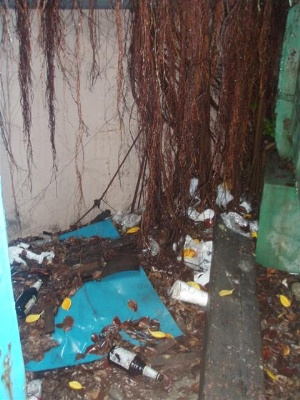bottle: (107, 344, 164, 381), (17, 279, 43, 319), (172, 282, 208, 306)
plastic_bag: (61, 275, 172, 350)
